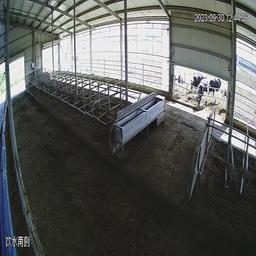cow: (198, 76, 209, 109), (218, 79, 227, 113)
